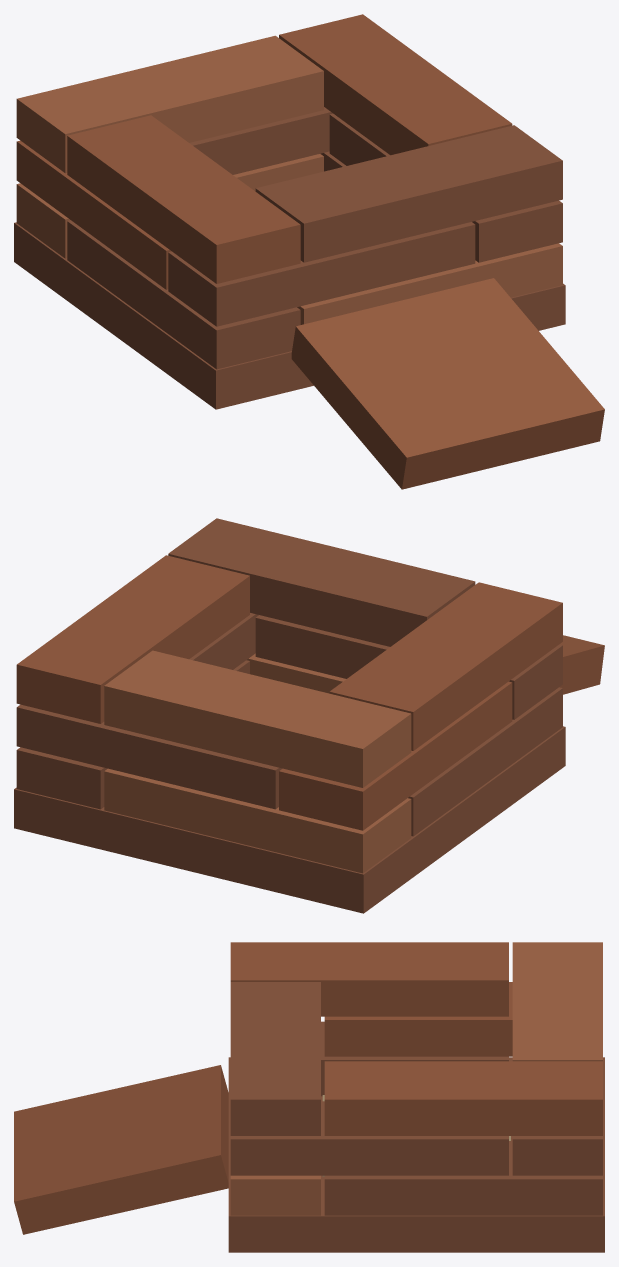
Rendered from foundation_deposit.glb.
The picture shows the model from 3 angles, top to bottom: view 1: azimuth 30°, elevation 25°; view 2: azimuth 150°, elevation 25°; view 3: azimuth 270°, elevation 25°; orthographic projection. The views are drawn at different scales.
Parts seen in each view (by area): view 1: foundation_box; view 2: foundation_box; view 3: foundation_box.
Boxes of the visible parts, box(x1,y1,x2,y2) form: foundation_box: box(14, 14, 604, 489); foundation_box: box(14, 518, 604, 913); foundation_box: box(14, 942, 604, 1252).
Size of the model in its own units: 0.6 by 0.2971 by 0.9422.
